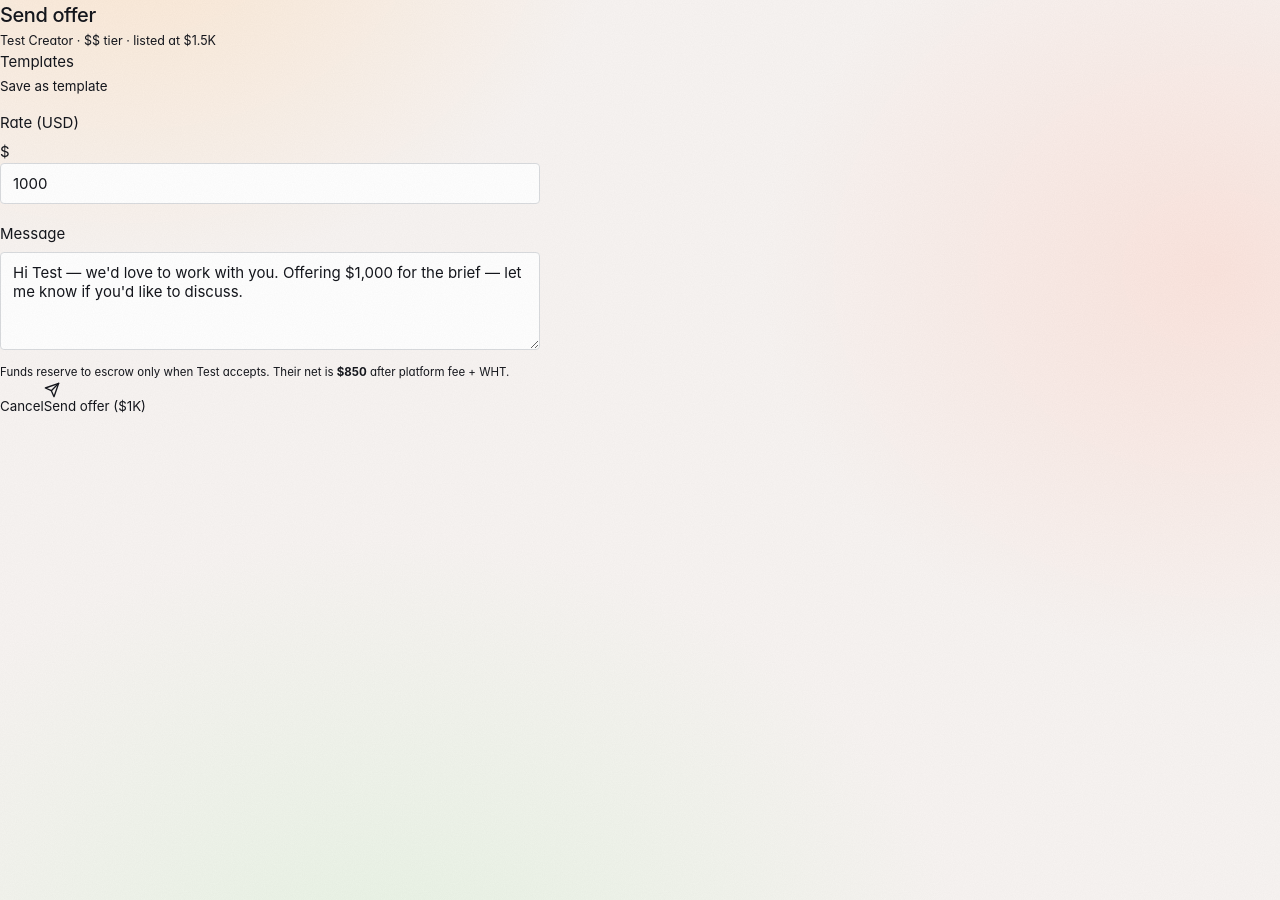
it: SendOfferModal › shows the "positive rate" error and disables Send when rate is 0
Replace the text in the number field with "0" at (270, 184), box [0, 163, 540, 204]
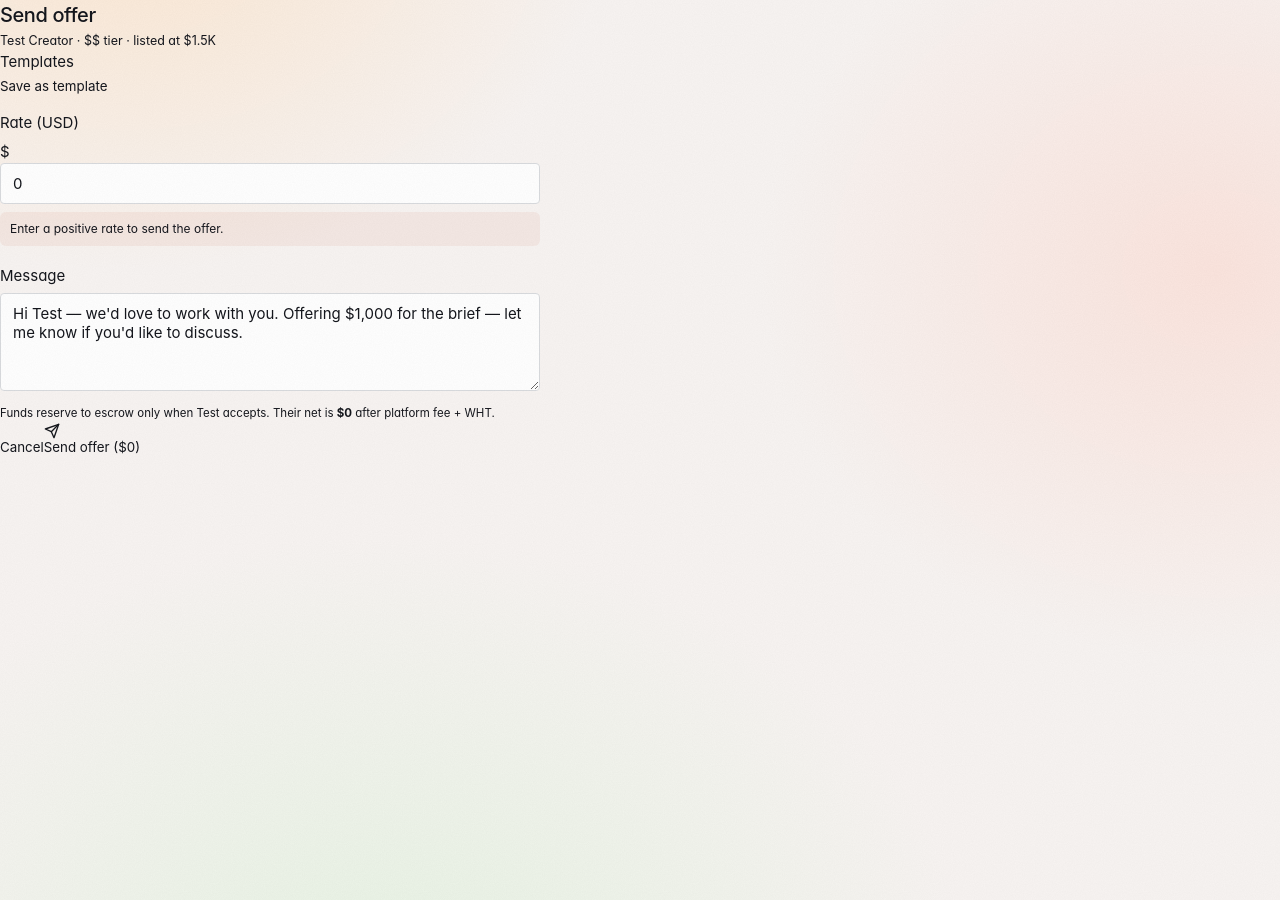
Result: the text "Enter a positive rate to send the offer." is shown at [0, 212, 540, 246]
Result: the button "Send offer ($0)" is disabled at [44, 423, 140, 455]
